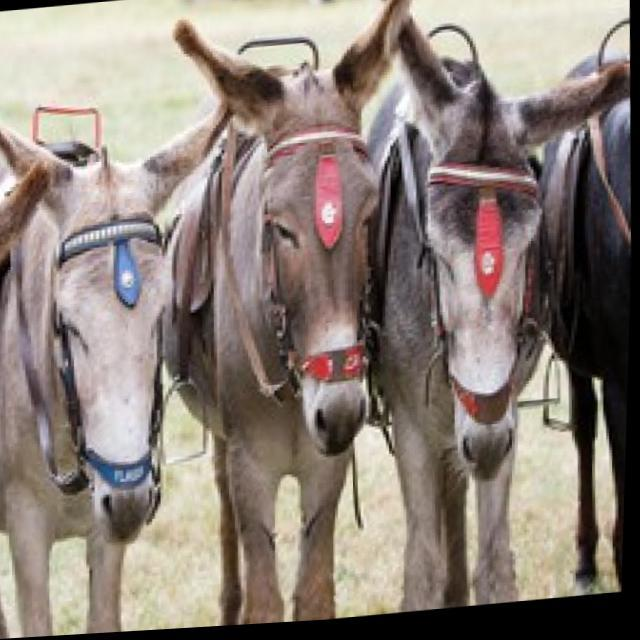Donkey: (142, 0, 439, 633), (348, 0, 640, 618), (0, 79, 252, 640), (520, 51, 638, 604), (0, 95, 72, 640)
